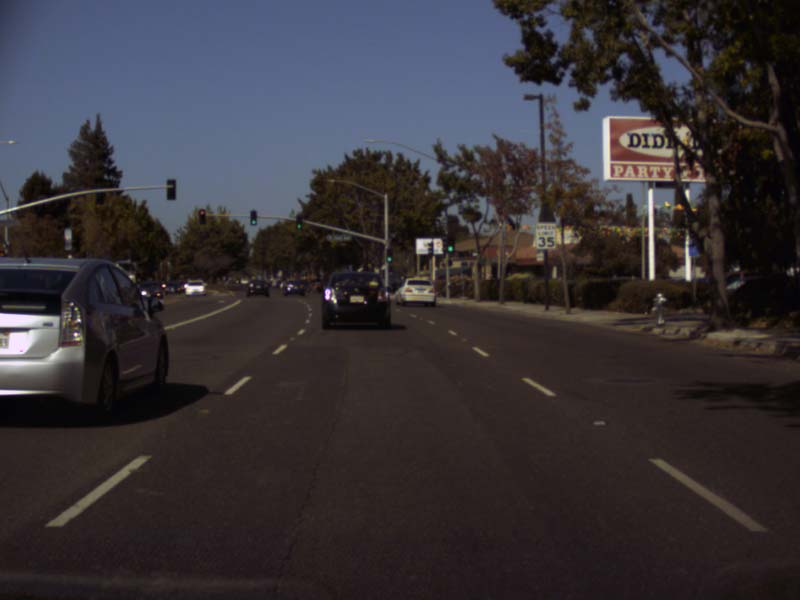Green: (447, 234, 454, 253), (250, 210, 255, 225), (386, 247, 391, 262), (296, 215, 301, 229)
Red: (199, 209, 204, 223)
